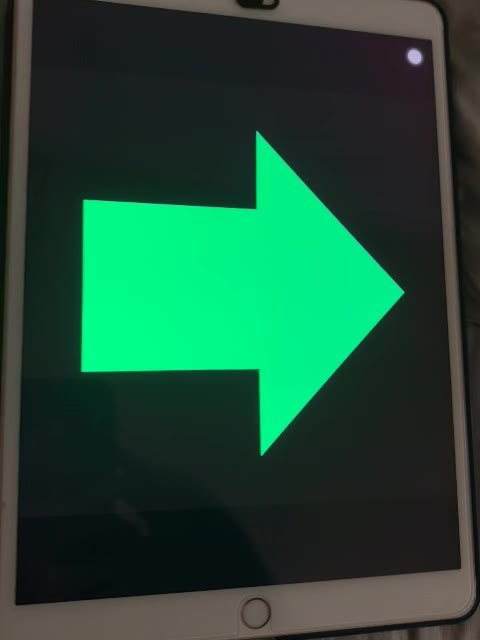right: (70, 117, 411, 463)
